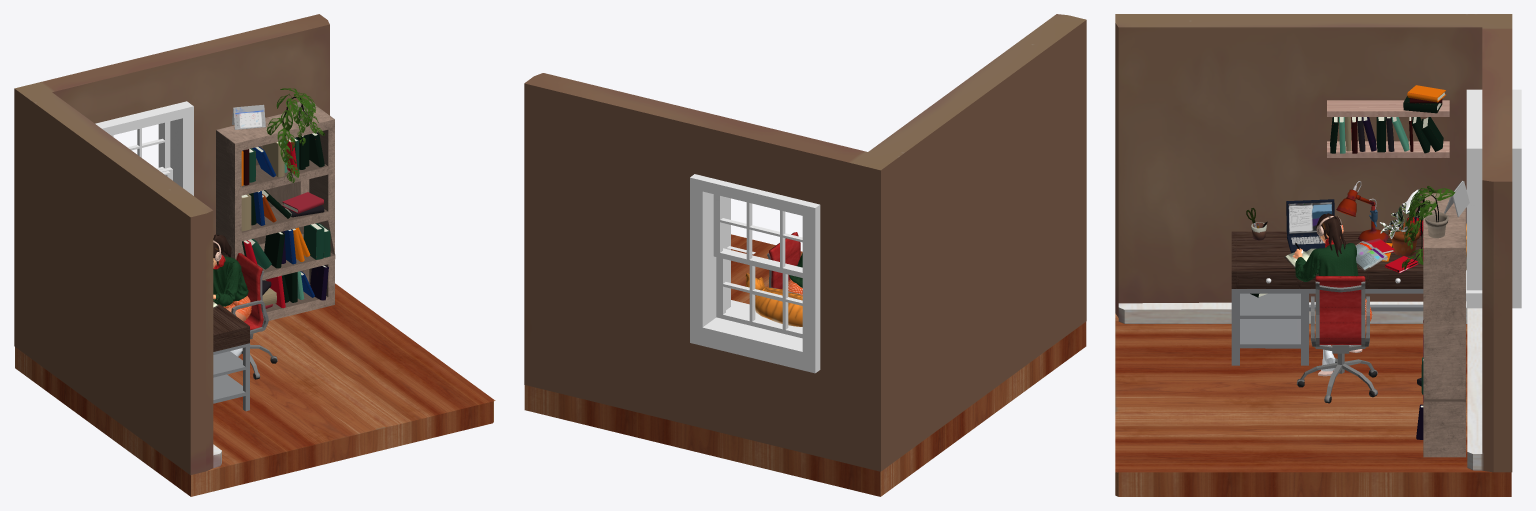
3 renders of one model, left to right at view 1: azimuth 30°, elevation 25°; view 2: azimuth 150°, elevation 25°; view 3: azimuth 270°, elevation 25°, orthographic. The views are drawn at different scales.
Parts seen in each view (by area): view 1: ground, TableLegs, Book.001, Cupholder.002, clothing2, Chair, Journal; view 2: ground, TableLegs, Cat, Chair; view 3: ground, TableLegs, Chair, Book.001, Journal, Cupholder, clothing2, Cupholder.002, Cat, Cupholder.001.
Part boxes in pixels (box(x1,y1,x2,y2)): ground: box(14, 14, 495, 496); TableLegs: box(95, 101, 335, 411); Book.001: box(241, 132, 330, 308); Cupholder.002: box(266, 88, 324, 182); clothing2: box(213, 254, 251, 374); Chair: box(231, 253, 277, 379); Journal: box(213, 104, 265, 308); ground: box(524, 14, 1086, 496); TableLegs: box(690, 174, 820, 373); Cat: box(745, 273, 802, 326); Chair: box(767, 232, 802, 295); ground: box(1115, 14, 1512, 496); TableLegs: box(1231, 89, 1521, 457); Chair: box(1286, 199, 1377, 403); Book.001: box(1250, 85, 1445, 439); Journal: box(1284, 100, 1469, 271); Cupholder: box(1246, 181, 1448, 267); clothing2: box(1292, 225, 1372, 376); Cupholder.002: box(1402, 186, 1455, 269); Cat: box(1266, 213, 1466, 283); Cupholder.001: box(1380, 189, 1425, 238).
Bounding box in the file's own units: 702 × 615 × 719.
13 materials, 12 textured.
